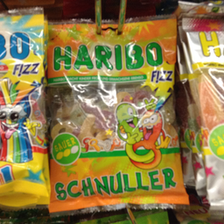candy: (48, 16, 190, 209), (1, 4, 55, 204)
